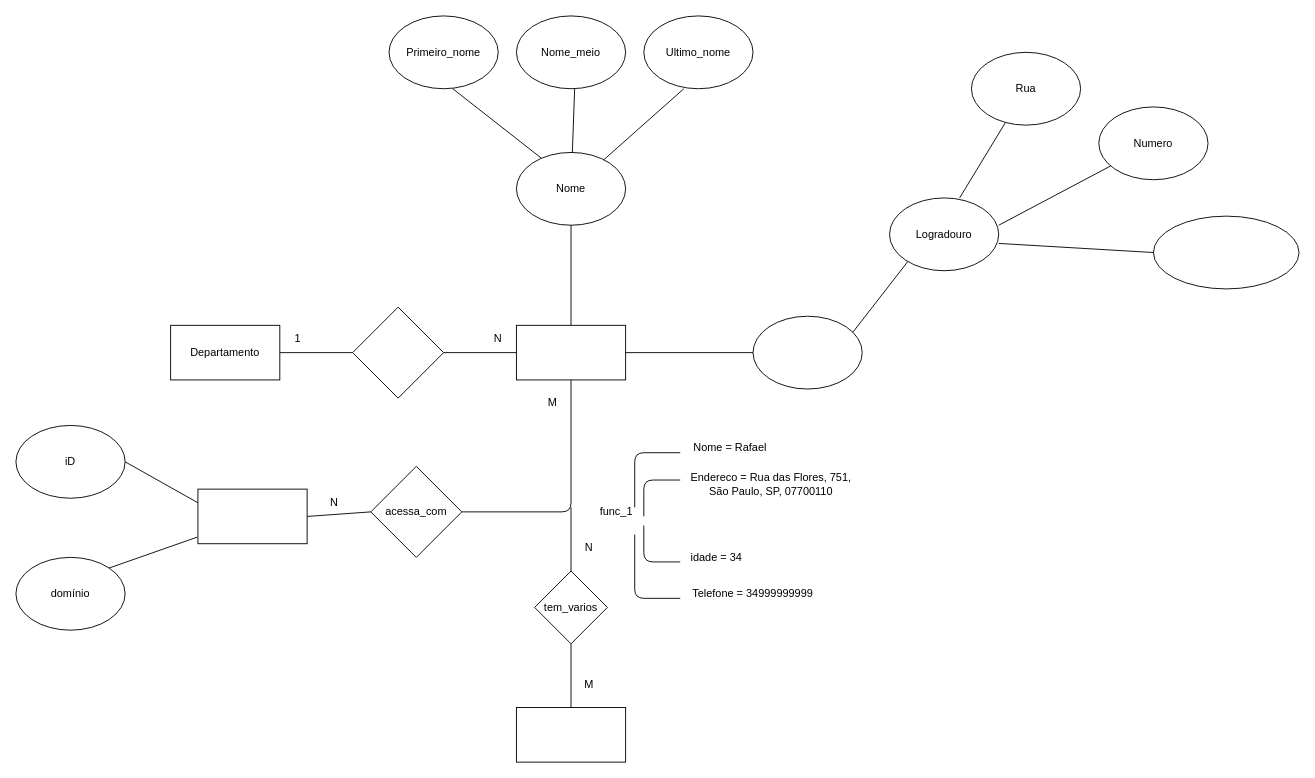
The diagram is 1315 pixels wide and 778 high, and some of its shapes have lost their labels. The shapes that lost their labels are listed below. From the top down, each one's box as (x1, y1, x2, y2) in pixels, then its label:
(1153, 215, 1299, 289): Numero_Apartamento
(352, 306, 444, 398): Trabalha_para
(516, 324, 626, 380): Funcionario
(752, 315, 862, 389): Endereço
(197, 488, 307, 544): usuario
(516, 707, 626, 762): Projeto
